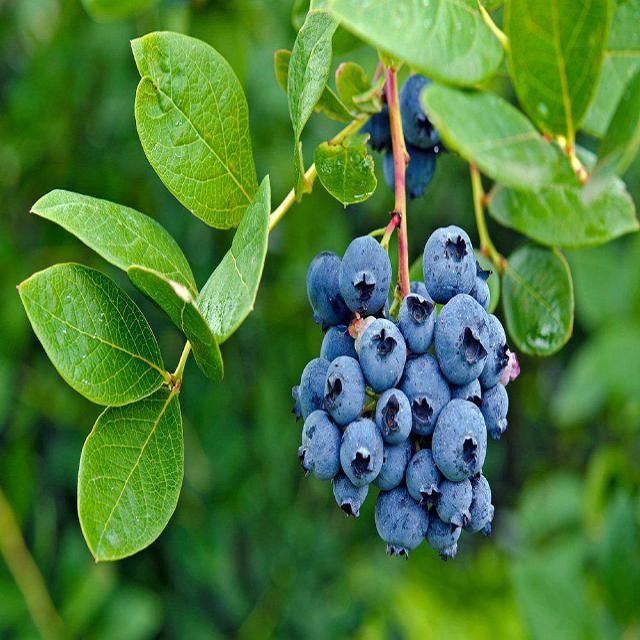BlueBerry - v1: (431, 287, 493, 392), (333, 229, 397, 322), (428, 391, 488, 487), (367, 477, 434, 559), (394, 64, 448, 158), (421, 221, 480, 307), (401, 348, 453, 443), (302, 248, 359, 333), (294, 402, 344, 496), (354, 315, 411, 392), (334, 409, 388, 489), (320, 347, 370, 428), (326, 459, 375, 523), (396, 142, 442, 209), (402, 438, 443, 512), (288, 351, 331, 421), (371, 382, 415, 449), (399, 285, 439, 357), (460, 468, 499, 541), (483, 310, 516, 396), (432, 471, 475, 534), (357, 92, 396, 153), (376, 436, 414, 498), (481, 376, 515, 444), (319, 320, 359, 371), (466, 260, 498, 318), (431, 516, 464, 572)
